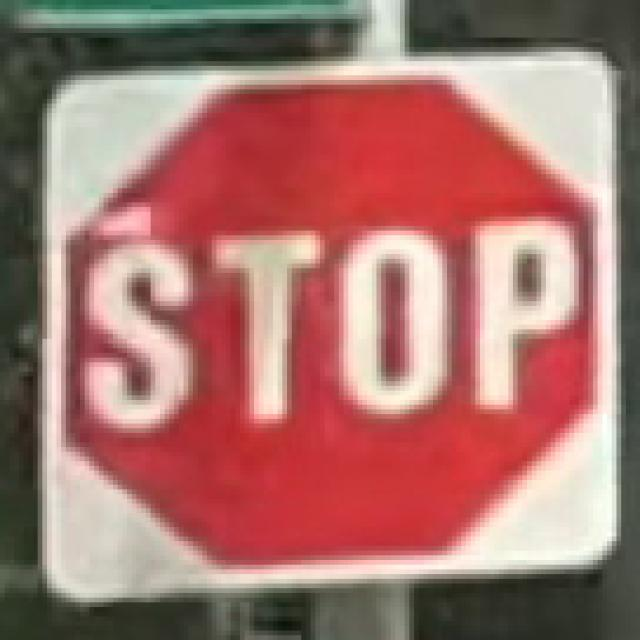mandatorystop_sign: (37, 52, 620, 598)
